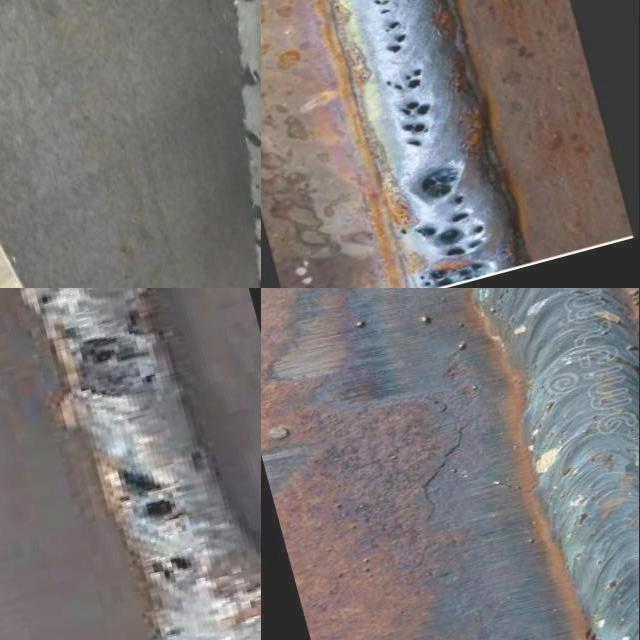defect: (396, 160, 493, 259), (113, 461, 188, 529), (74, 333, 170, 366), (419, 260, 489, 288), (98, 368, 166, 392), (145, 554, 201, 583), (383, 17, 412, 58), (383, 64, 427, 91), (240, 56, 262, 90), (399, 99, 437, 116), (30, 290, 55, 311), (401, 122, 433, 136), (158, 626, 186, 640), (246, 128, 262, 151), (372, 0, 393, 15), (252, 201, 262, 223), (406, 139, 424, 148), (255, 267, 262, 288), (254, 236, 262, 252), (254, 179, 262, 190)
